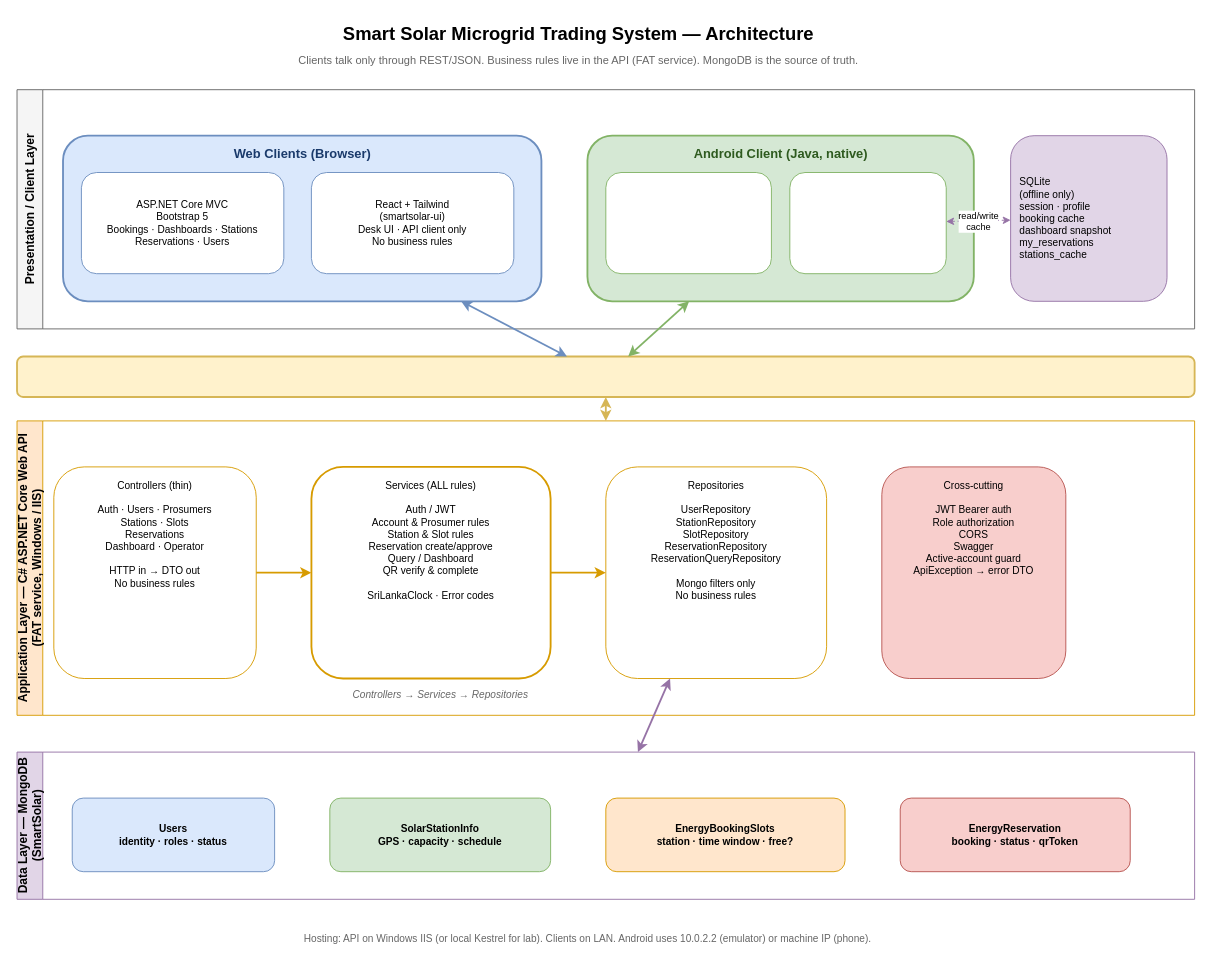
Image size: 1212x970. Some labels were removed from this diagram. Here are the shapes that lost their labels. From the top down, the centre of each, then its label:
At (688,223): "Activities / UI Prosumer · Operator Book · Map · Scan QR Dashboard · History".
At (867,223): "ApiClient JWT session ZXing QR Google Maps".
At (605,376): "LAN · HTTPS/HTTP · REST / JSON · Authorization: Bearer JWT".
